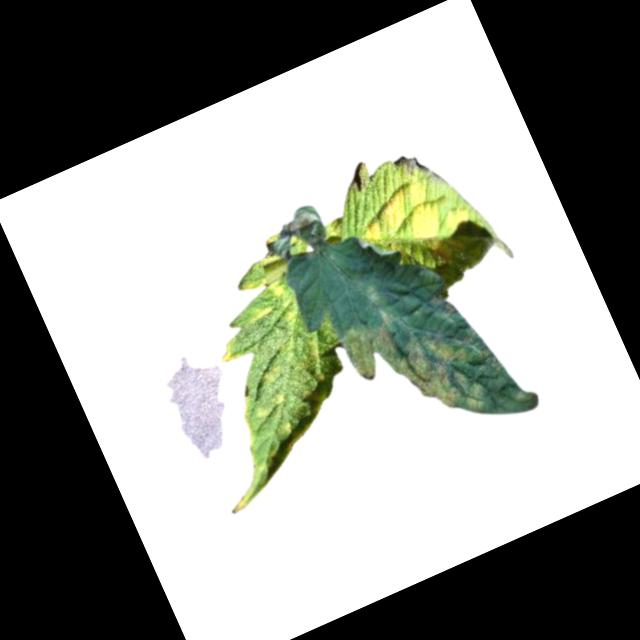Leaf_Mold: (135, 233, 372, 515), (336, 267, 541, 468), (350, 162, 496, 293)
